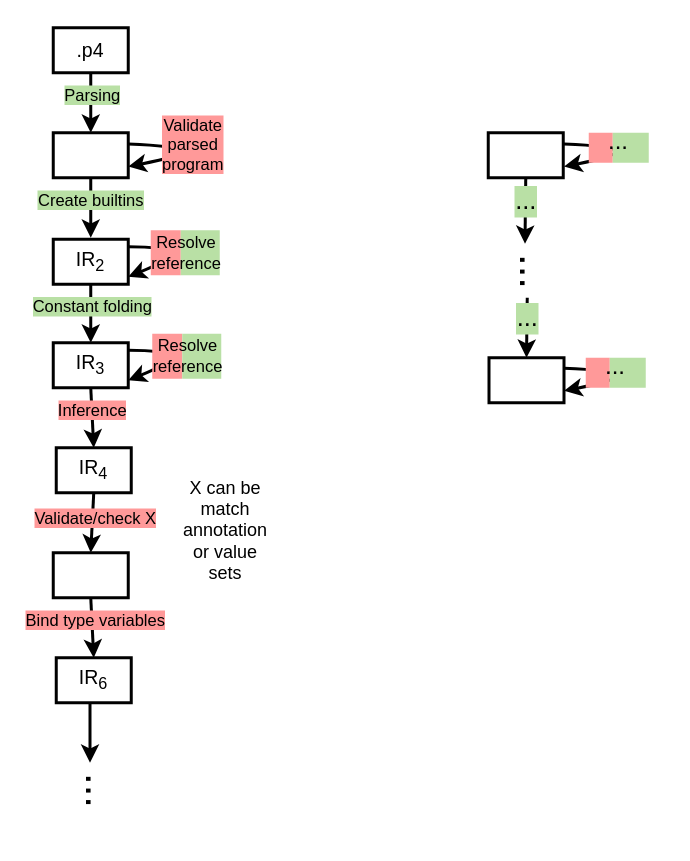
This 690x861 diagram has some shape labels left out. Each missing label, with the centre of its shape:
"IR 1" goes at point 90,154.
"IR 5" goes at point 90,574.
"IR m" goes at point 526,380.
"IR n" goes at point 525,154.
